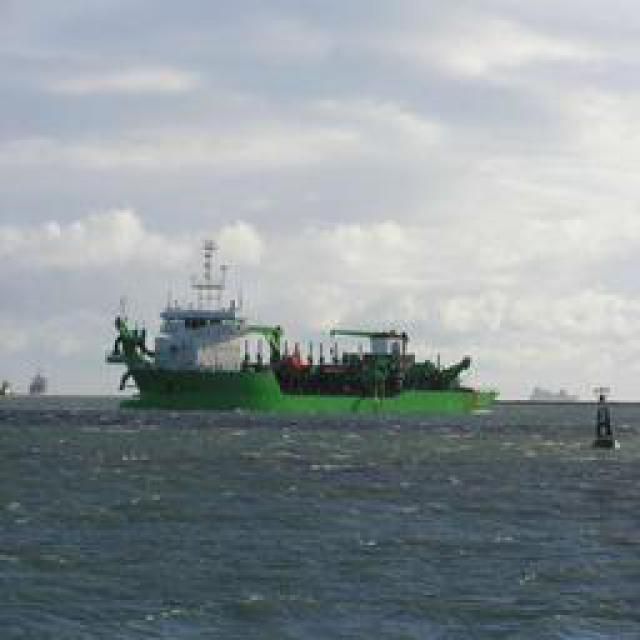Ship: (118, 230, 505, 422)
